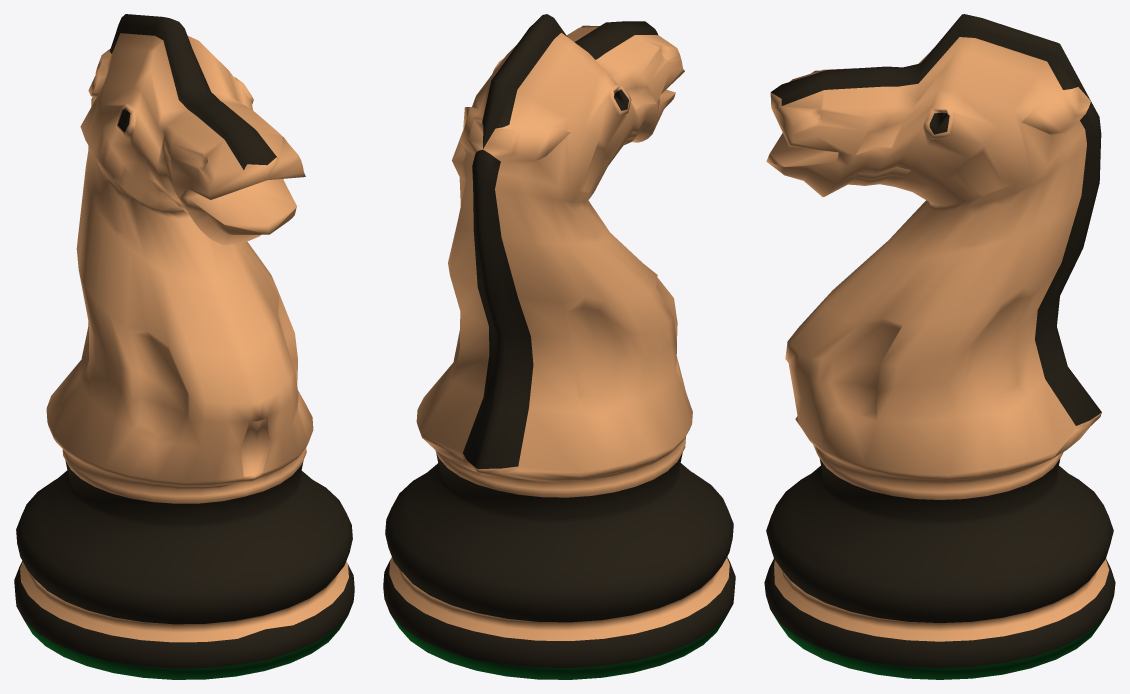
Rendered from KnightWhite.fbx.
3 views of the same model, side by side, from view 1: azimuth 30°, elevation 25°; view 2: azimuth 150°, elevation 25°; view 3: azimuth 270°, elevation 25° (orthographic). The views are drawn at different scales.
Visible parts, largest first — view 1: White Knight Q; view 2: White Knight Q; view 3: White Knight Q.
Boxes of the visible parts, left/top/right/bottom form: White Knight Q: left=14, top=14, right=354, bottom=679; White Knight Q: left=383, top=14, right=735, bottom=679; White Knight Q: left=764, top=14, right=1115, bottom=679.
Bounding box in the file's own units: 2.99 × 5.65 × 3.01.
